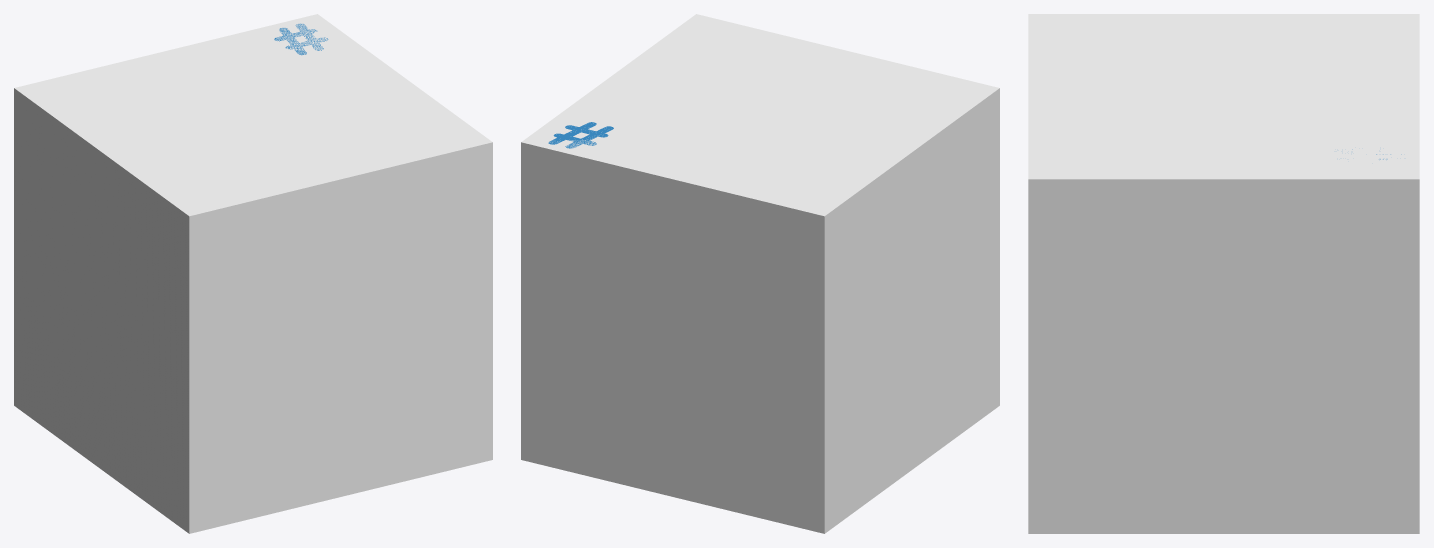
Rendered from RState_Hashtag.dae.
3 views of the same model, side by side, from view 1: azimuth 30°, elevation 25°; view 2: azimuth 150°, elevation 25°; view 3: azimuth 270°, elevation 25° (orthographic). The views are drawn at different scales.
Parts seen in each view (by area): view 1: Z_ClassFrame, A_Hash; view 2: Z_ClassFrame, A_Hash; view 3: Z_ClassFrame.
Part boxes in pixels (<box>): Z_ClassFrame: <box>14,14,492,533</box>; A_Hash: <box>274,23,328,55</box>; Z_ClassFrame: <box>521,14,999,533</box>; A_Hash: <box>548,122,613,148</box>; Z_ClassFrame: <box>1028,14,1419,533</box>.
Size of the model in its own units: 2 by 2 by 2.
3 materials, 3 textured.
